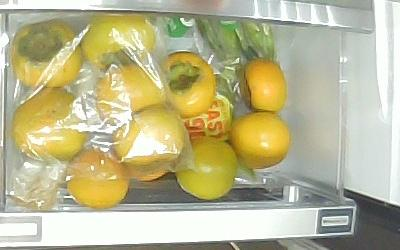persimmon: (177, 138, 238, 200), (233, 112, 292, 169), (240, 59, 287, 113)
persimmon_vinyl: (13, 87, 88, 161), (11, 19, 82, 88), (113, 105, 186, 166), (97, 64, 165, 125), (66, 147, 130, 208), (82, 16, 156, 68), (161, 51, 217, 117)
